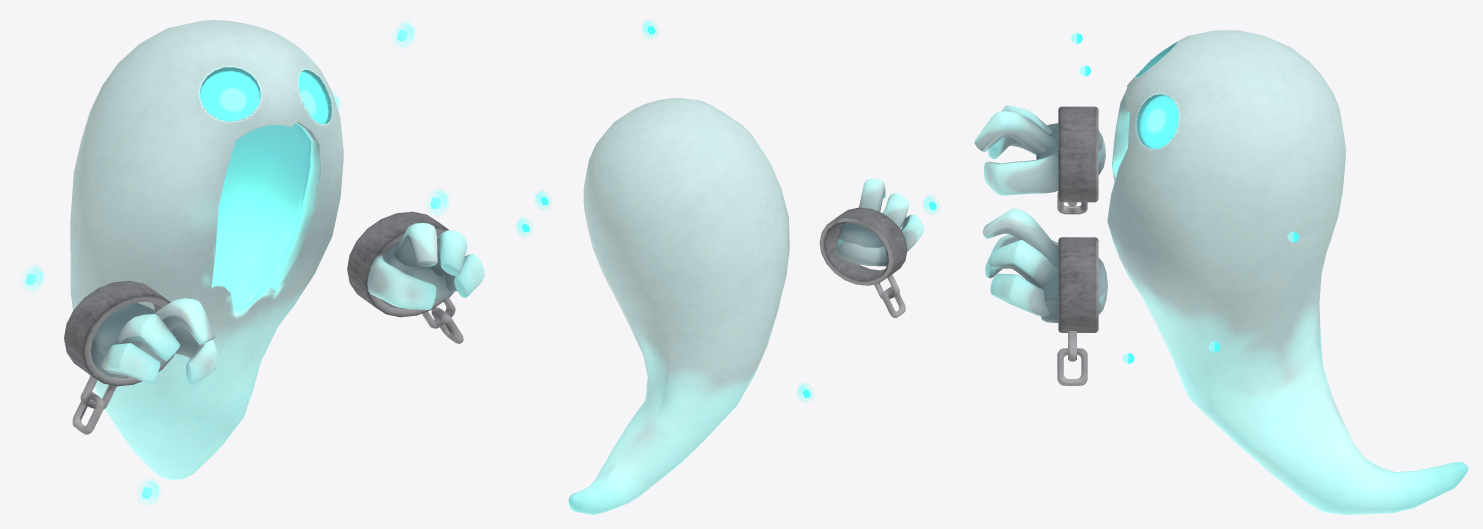
File: ghost.glb
3 renders of one model, left to right at view 1: azimuth 30°, elevation 25°; view 2: azimuth 150°, elevation 25°; view 3: azimuth 270°, elevation 25°, orthographic. The views are drawn at different scales.
Visible parts, largest first — view 1: polySurface2, polySurface10, pCube7, polySurface3, pCylinder5, pTorus5, polySurface4; view 2: polySurface2, polySurface3, polySurface10; view 3: polySurface2, pCube7, polySurface10, polySurface3, pCylinder5, pTorus5.
Boxes of the visible parts, left/top/right/bottom form: polySurface2: left=70, top=20, right=343, bottom=479; polySurface10: left=90, top=298, right=217, bottom=384; pCube7: left=367, top=222, right=484, bottom=309; polySurface3: left=64, top=280, right=173, bottom=386; pCylinder5: left=347, top=211, right=449, bottom=317; pTorus5: left=422, top=298, right=463, bottom=343; polySurface4: left=72, top=392, right=104, bottom=434; polySurface2: left=568, top=98, right=789, bottom=514; polySurface3: left=819, top=207, right=907, bottom=285; polySurface10: left=836, top=179, right=923, bottom=266; polySurface2: left=1107, top=30, right=1468, bottom=514; pCube7: left=982, top=208, right=1107, bottom=322; polySurface10: left=974, top=105, right=1105, bottom=195; polySurface3: left=1058, top=106, right=1098, bottom=202; pCylinder5: left=1058, top=237, right=1098, bottom=332; pTorus5: left=1057, top=331, right=1087, bottom=385.
Size of the model in its own units: 222 by 221 by 197.
Materials: 1 (1 with a texture image).
